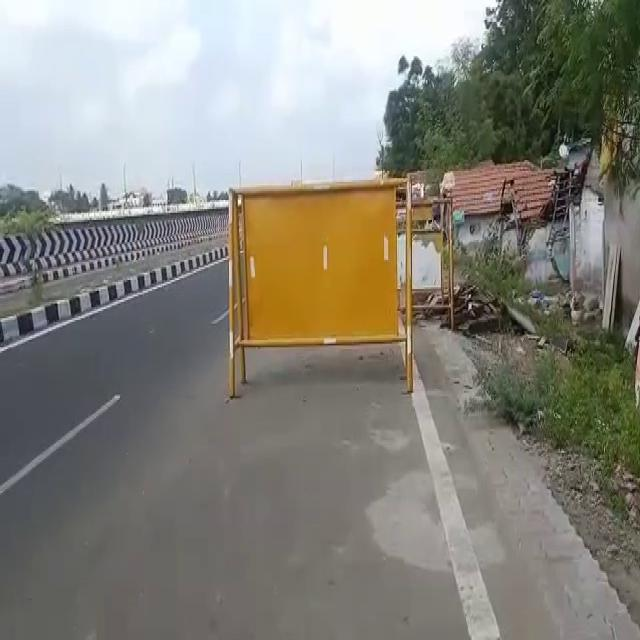fallen_object: (203, 177, 433, 395)
